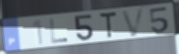1: (32, 19, 44, 46)
5: (72, 14, 95, 42), (148, 6, 170, 34)
L: (48, 18, 70, 44)
T: (98, 11, 119, 40)
V: (120, 6, 147, 38)
